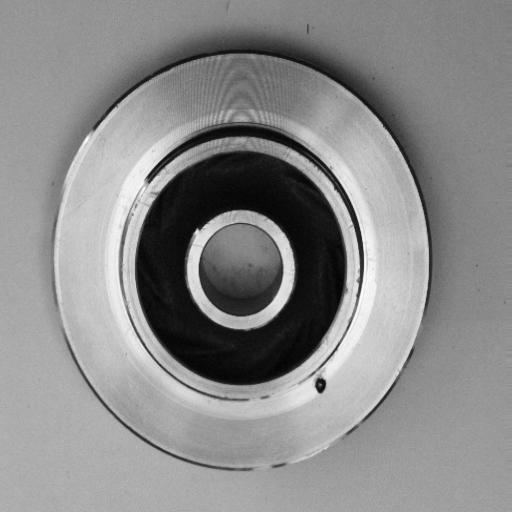crack: (305, 368, 335, 406)
scratch: (255, 424, 366, 490), (118, 166, 154, 253), (232, 375, 304, 408)
unpolished_casting: (53, 50, 434, 474)
